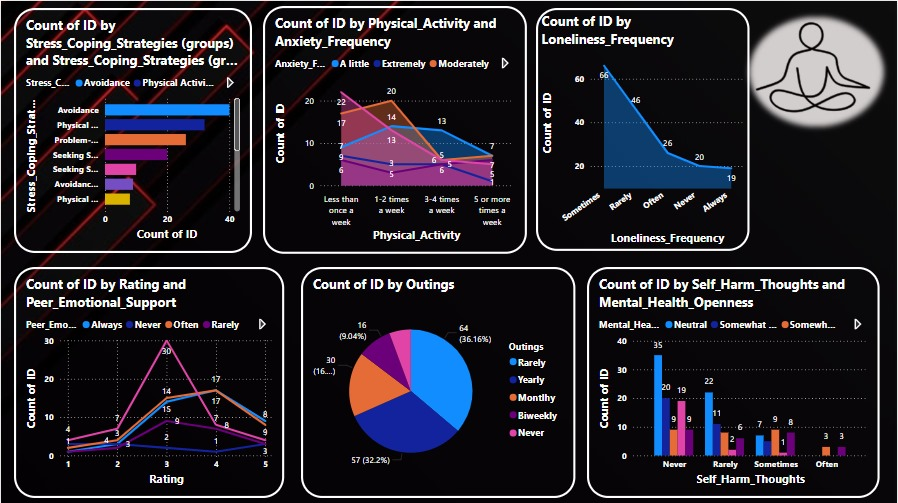

What the dashboard file says about the page in this screenshot:
{"tool":"powerbi","page":{"name":"Mental Health","canvas":[1280,720],"ordinal":1},"visuals":[{"type":"areaChart","fields":{"Category":["1TABLE_NEW.Loneliness_Frequency"],"Y":["CountNonNull(1TABLE_NEW.ID)"]},"box":[764.8,10.1,305.1,347],"z":0},{"type":"pieChart","fields":{"Category":["1TABLE_NEW.Outings"],"Y":["CountNonNull(1TABLE_NEW.ID)"]},"box":[428,380.2,391.8,329.6],"z":1000},{"type":"lineChart","fields":{"Category":["1TABLE_NEW.Rating"],"Y":["CountNonNull(1TABLE_NEW.ID)"],"Series":["1TABLE_NEW.Peer_Emotional_Support"]},"box":[18.8,380.2,386,329.6],"z":2000},{"type":"barChart","fields":{"Category":["1TABLE_NEW.Stress_Coping_Strategies (groups)"],"Y":["CountNonNull(1TABLE_NEW.ID)"],"Series":["1TABLE_NEW.Stress_Coping_Strategies (groups)"]},"box":[18.8,10.1,339.8,349.9],"z":3000},{"type":"lineClusteredColumnComboChart","fields":{"Y":["CountNonNull(1TABLE_NEW.ID)"],"Series":["1TABLE_NEW.Mental_Health_Openness"],"Category":["1TABLE_NEW.Self_Harm_Thoughts"]},"box":[837.1,380.2,417.8,329.6],"z":4000},{"type":"areaChart","fields":{"Category":["1TABLE_NEW.Physical_Activity"],"Y":["CountNonNull(Mental_Health.ID)"],"Series":["Mental_Health.Anxiety_Frequency"]},"box":[374.4,6.9,377.1,353.7],"z":5000}]}

Visuals, with their boxes in screenshot pixels (x1, y1, x2, y2), scaled from the page's 1280x720 canvas onto the 898x503 screenshot:
areaChart - 1TABLE_NEW.Loneliness_Frequency x CountNonNull(1TABLE_NEW.ID): 537,7,751,249
pieChart - 1TABLE_NEW.Outings x CountNonNull(1TABLE_NEW.ID): 300,266,575,496
lineChart - 1TABLE_NEW.Rating x CountNonNull(1TABLE_NEW.ID): 13,266,284,496
barChart - 1TABLE_NEW.Stress_Coping_Strategies (groups) x CountNonNull(1TABLE_NEW.ID): 13,7,252,252
lineClusteredColumnComboChart - CountNonNull(1TABLE_NEW.ID) x 1TABLE_NEW.Mental_Health_Openness: 587,266,880,496
areaChart - 1TABLE_NEW.Physical_Activity x CountNonNull(Mental_Health.ID): 263,5,527,252
